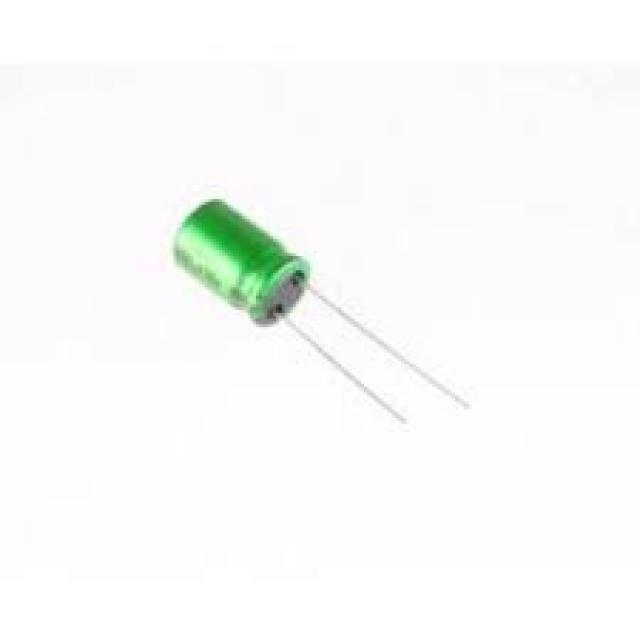Capacitor: (171, 196, 312, 324)
